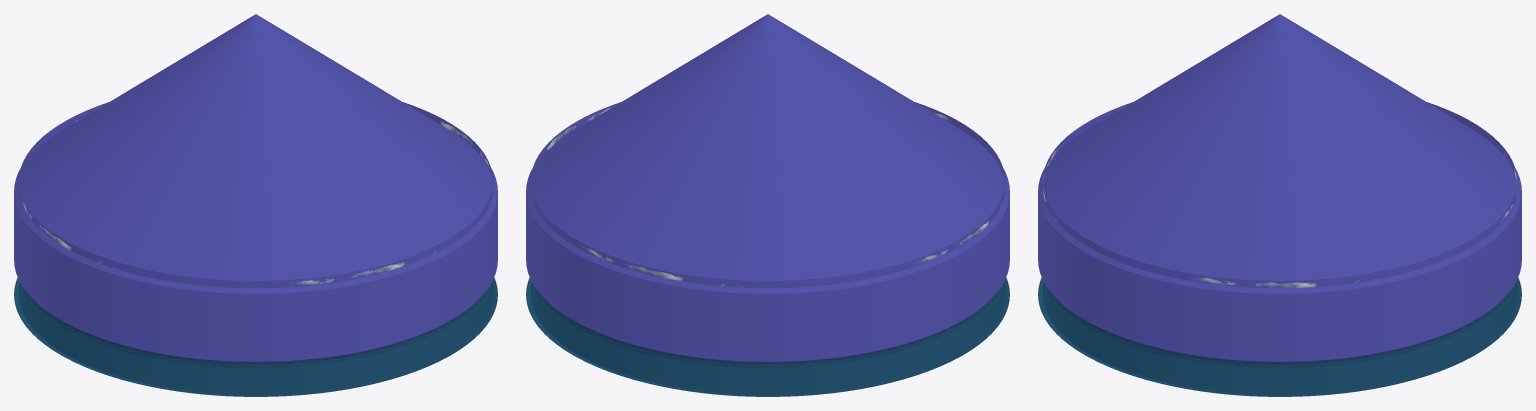
Rendered from sky-cl1.glb.
3 views of the same model, side by side, from view 1: azimuth 30°, elevation 25°; view 2: azimuth 150°, elevation 25°; view 3: azimuth 270°, elevation 25° (orthographic).
Parts seen in each view (by area): view 1: sky-cl1; view 2: sky-cl1; view 3: sky-cl1.
Boxes of the visible parts, <box> form: sky-cl1: <box>14,14,497,396</box>; sky-cl1: <box>526,14,1009,396</box>; sky-cl1: <box>1038,14,1521,396</box>.
Bounding box in the file's own units: 2 × 1.7 × 2.
4 materials, 4 textured.
